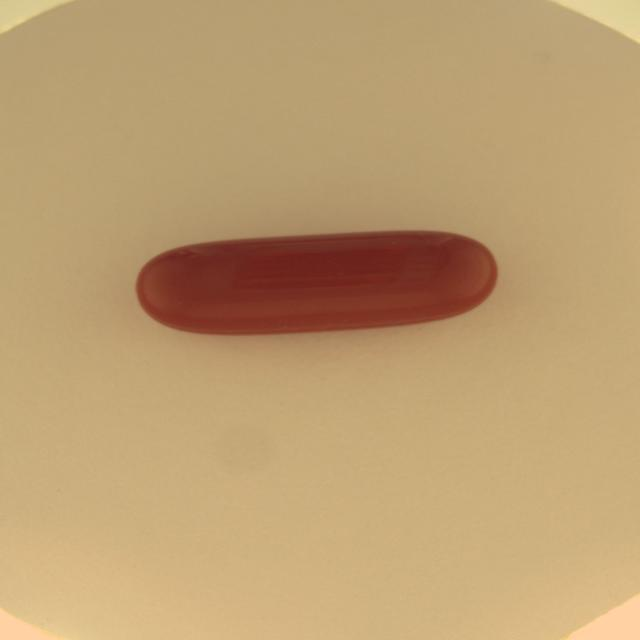Oval: (132, 229, 498, 336)
